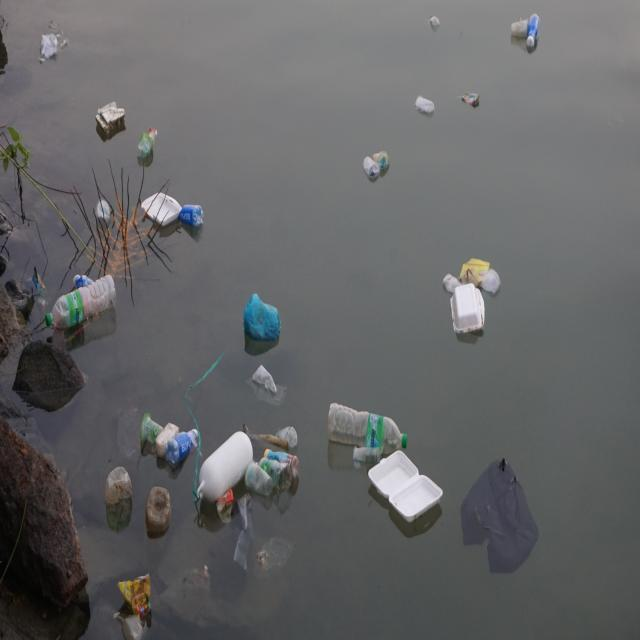Botol Plastik: (324, 393, 412, 458), (46, 269, 120, 336), (142, 477, 178, 538), (105, 465, 137, 517), (169, 423, 202, 471), (257, 453, 295, 493), (265, 446, 306, 473), (181, 201, 207, 232), (69, 265, 97, 292), (527, 13, 542, 57)
Bungkus Makanan: (369, 450, 445, 527), (451, 284, 488, 335), (143, 188, 183, 230), (117, 573, 154, 618), (458, 255, 493, 295), (27, 261, 49, 296), (458, 88, 484, 115)
Bungkus Minuman: (247, 462, 275, 499), (139, 412, 166, 445), (351, 441, 383, 466), (415, 93, 440, 119), (363, 154, 383, 183), (441, 271, 463, 296), (483, 270, 503, 295), (510, 17, 530, 40), (139, 133, 154, 163), (373, 151, 393, 173), (279, 427, 299, 449), (96, 197, 114, 219)
Kantong Plastik: (459, 449, 543, 579), (235, 499, 289, 581), (238, 282, 289, 350), (248, 366, 291, 411), (41, 22, 76, 66)
